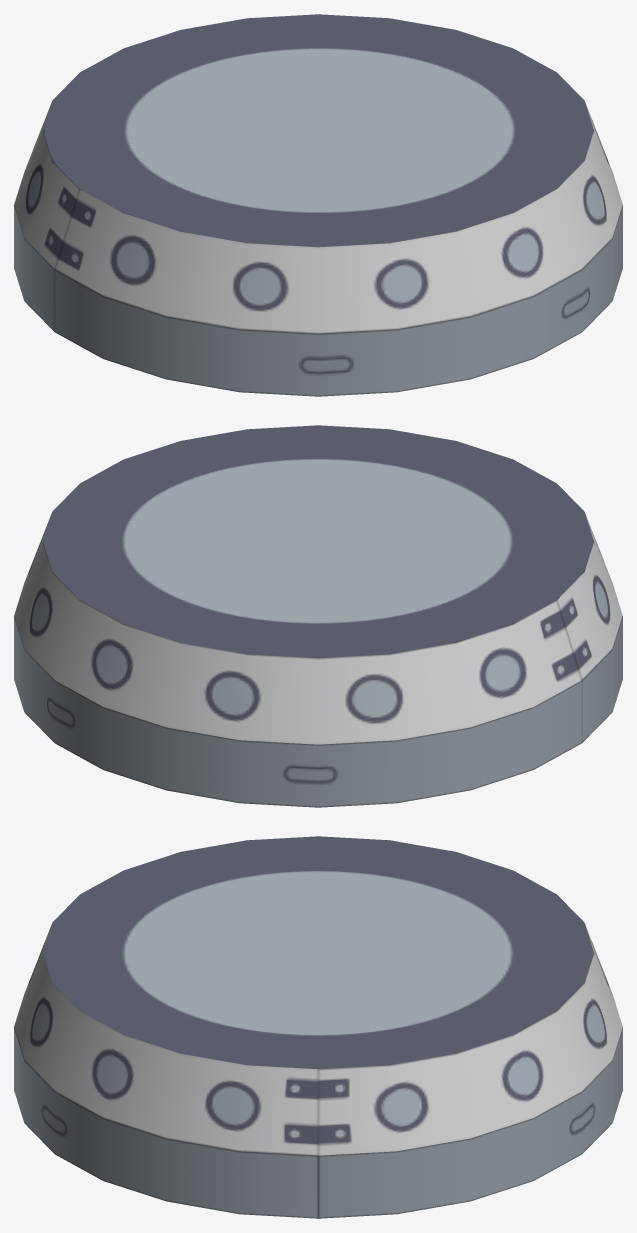
Rendered from Tube_End_04.FBX.
3 renders of one model, top to bottom at view 1: azimuth 30°, elevation 25°; view 2: azimuth 150°, elevation 25°; view 3: azimuth 270°, elevation 25°, orthographic.
Visible parts, largest first — view 1: Tube_End_04; view 2: Tube_End_04; view 3: Tube_End_04.
Part boxes in pixels (x1=…): Tube_End_04: x1=14, y1=14, x2=622, y2=396; Tube_End_04: x1=14, y1=425, x2=622, y2=807; Tube_End_04: x1=14, y1=836, x2=622, y2=1218.
Size of the model in its own units: 5.03 by 1.25 by 5.03.
Materials: 1 (1 with a texture image).
